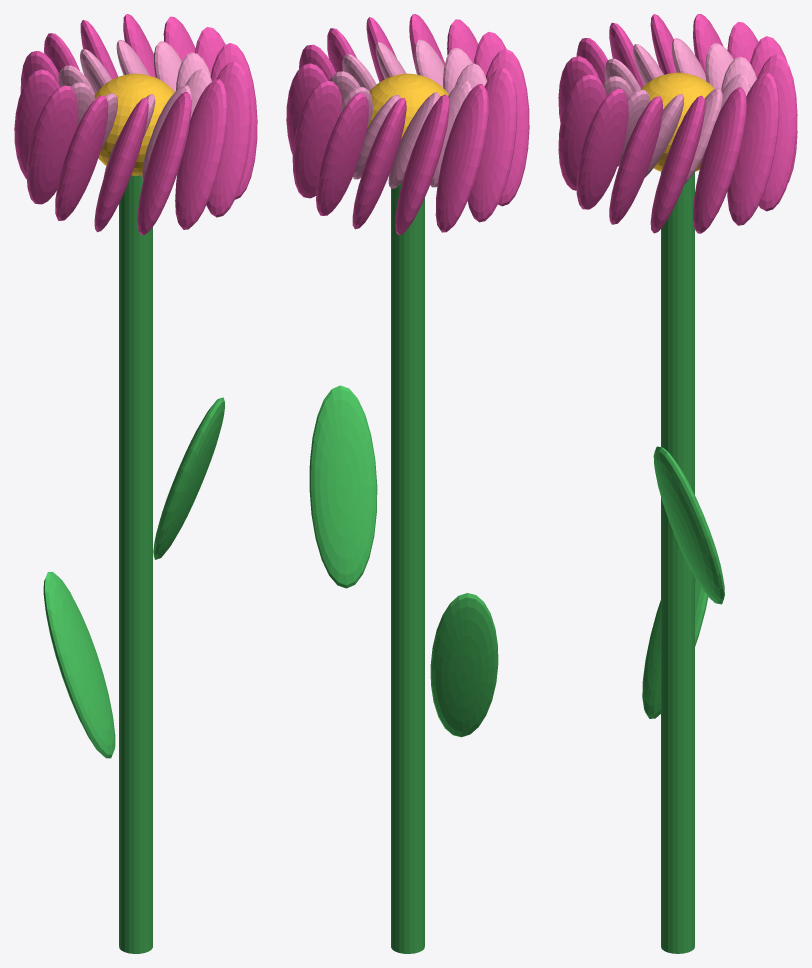
The model's file is flower.glb.
3 views of the same model, side by side, from view 1: azimuth 30°, elevation 25°; view 2: azimuth 150°, elevation 25°; view 3: azimuth 270°, elevation 25° (orthographic).
Visible parts, largest first — view 1: Stem, Leaf_Left, OuterPetal_11, OuterPetal_07, Leaf_Right, OuterPetal_12, OuterPetal_10, OuterPetal_08, FlowerCenter, OuterPetal_09, OuterPetal_06, OuterPetal_13 (+13 smaller); view 2: Stem, Leaf_Right, Leaf_Left, OuterPetal_06, OuterPetal_07, OuterPetal_03, OuterPetal_02, OuterPetal_05, OuterPetal_04, OuterPetal_08, FlowerCenter, OuterPetal_01 (+13 smaller); view 3: Stem, OuterPetal_02, Leaf_Right, OuterPetal_01, OuterPetal_12, OuterPetal_03, OuterPetal_13, OuterPetal_00, OuterPetal_11, Leaf_Left, FlowerCenter, InnerPetal_09 (+14 smaller).
Part boxes in pixels (x1=…): Stem: x1=119, y1=175, x2=152, y2=953; Leaf_Left: x1=43, y1=571, x2=115, y2=758; OuterPetal_11: x1=175, y1=79, x2=227, y2=229; OuterPetal_07: x1=26, y1=85, x2=78, y2=204; Leaf_Right: x1=153, y1=397, x2=224, y2=559; OuterPetal_12: x1=206, y1=61, x2=251, y2=217; OuterPetal_10: x1=137, y1=92, x2=191, y2=235; OuterPetal_08: x1=55, y1=95, x2=108, y2=220; FlowerCenter: x1=94, y1=73, x2=174, y2=175; OuterPetal_09: x1=94, y1=97, x2=148, y2=232; OuterPetal_06: x1=14, y1=69, x2=59, y2=178; OuterPetal_13: x1=210, y1=43, x2=257, y2=199; Stem: x1=391, y1=183, x2=424, y2=953; Leaf_Right: x1=309, y1=385, x2=377, y2=588; Leaf_Left: x1=430, y1=593, x2=498, y2=737; OuterPetal_06: x1=435, y1=84, x2=488, y2=232; OuterPetal_07: x1=467, y1=67, x2=517, y2=222; OuterPetal_03: x1=316, y1=93, x2=368, y2=215; OuterPetal_02: x1=292, y1=80, x2=342, y2=198; OuterPetal_05: x1=395, y1=94, x2=449, y2=235; OuterPetal_04: x1=352, y1=98, x2=406, y2=229; OuterPetal_08: x1=486, y1=49, x2=529, y2=206; FlowerCenter: x1=367, y1=73, x2=448, y2=139; OuterPetal_01: x1=286, y1=63, x2=328, y2=154; Stem: x1=661, y1=172, x2=694, y2=953; OuterPetal_02: x1=727, y1=72, x2=779, y2=225; Leaf_Right: x1=653, y1=446, x2=724, y2=604; OuterPetal_01: x1=693, y1=87, x2=746, y2=233; OuterPetal_12: x1=576, y1=88, x2=628, y2=209; OuterPetal_03: x1=757, y1=54, x2=797, y2=211; OuterPetal_13: x1=609, y1=96, x2=662, y2=224; OuterPetal_00: x1=650, y1=95, x2=705, y2=233; OuterPetal_11: x1=558, y1=74, x2=606, y2=190; Leaf_Left: x1=642, y1=577, x2=708, y2=718; FlowerCenter: x1=640, y1=72, x2=714, y2=171; InnerPetal_09: x1=644, y1=94, x2=684, y2=177.
Size of the model in its own units: 0.86 by 3.47 by 0.8424.
